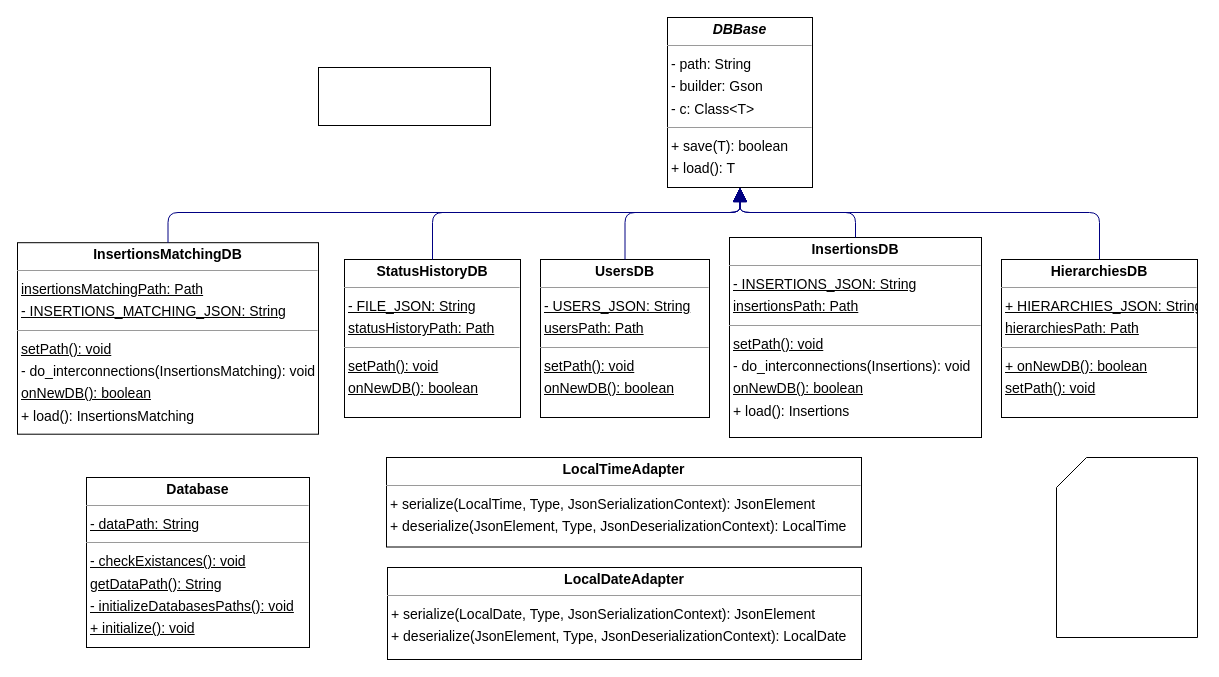
Some shapes in this 1219 by 677 pixel diagram are drawn without their labels. The centre of each missing label's shape, as x and y in pixels:
"DatabaseException - serialVersionUID: long" belongs at point (404, 96).
"onNewDB() and HIERARCHIES_JSON become public to allow external calls and reads" belongs at point (1127, 547).
